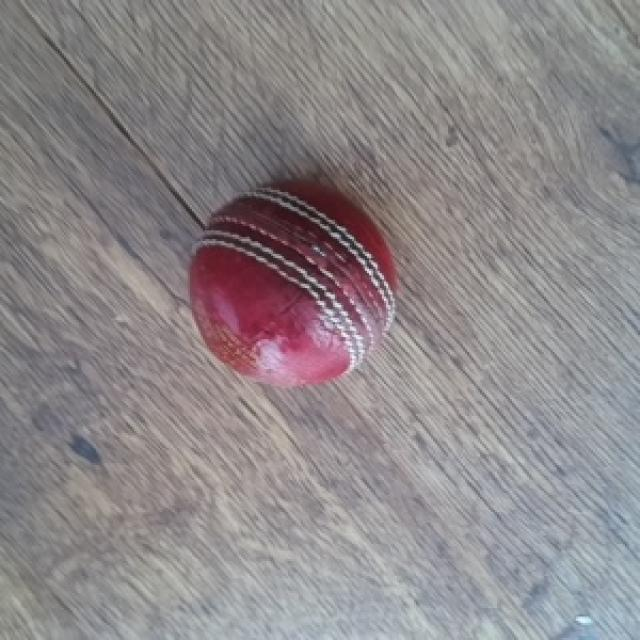ball: (186, 177, 401, 390)
